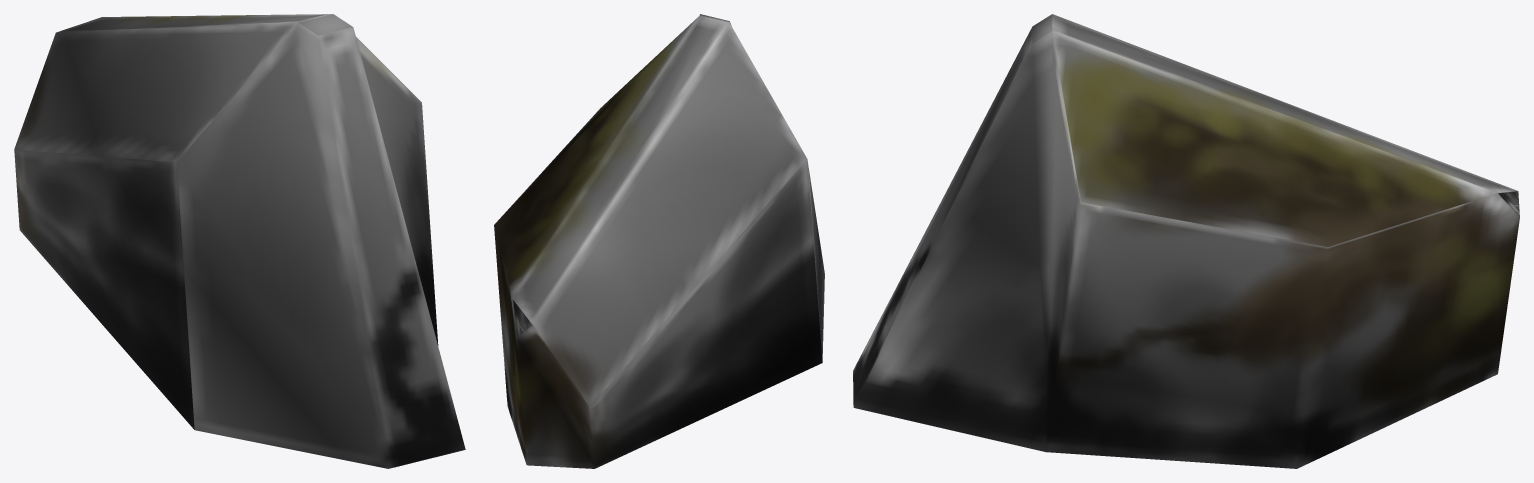
File: SM_Rock_07.fbx
The picture shows the model from 3 angles, left to right: view 1: azimuth 30°, elevation 25°; view 2: azimuth 150°, elevation 25°; view 3: azimuth 270°, elevation 25°; orthographic projection. The views are drawn at different scales.
Visible parts, largest first — view 1: Roca 6; view 2: Roca 6; view 3: Roca 6.
Part boxes in pixels (x1,y1,x2,y2): Roca 6: (14, 14, 465, 468); Roca 6: (494, 14, 824, 468); Roca 6: (853, 14, 1519, 468).
Bounding box in the file's own units: 1.35 × 2.09 × 3.25.
Materials: 1 (1 with a texture image).
